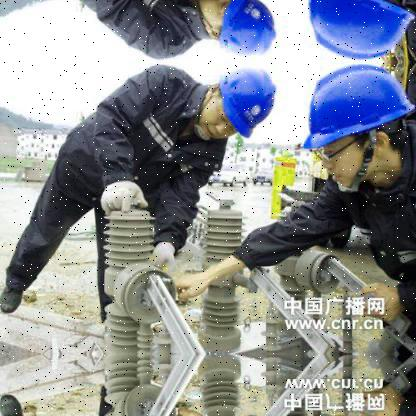Helmet: (302, 65, 411, 183), (309, 0, 409, 66), (192, 0, 288, 61), (212, 66, 278, 149)
